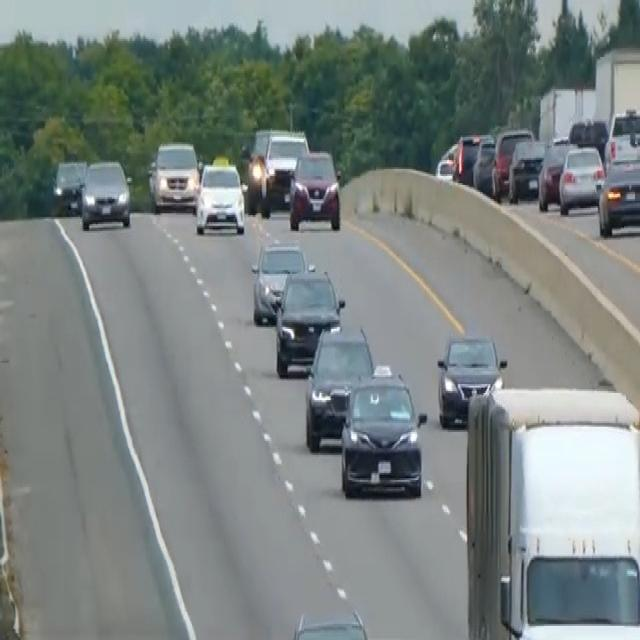bus: (463, 381, 639, 638)
car: (304, 322, 375, 452), (274, 263, 345, 377), (436, 331, 507, 428), (250, 238, 307, 326), (288, 148, 342, 231), (195, 154, 246, 234), (79, 157, 132, 231), (148, 138, 200, 212), (262, 128, 309, 208), (597, 154, 639, 236), (558, 142, 605, 214), (491, 126, 534, 198), (537, 135, 575, 210), (286, 606, 372, 638), (240, 126, 272, 212), (507, 137, 547, 203), (604, 105, 639, 171), (52, 156, 86, 214), (567, 114, 609, 160), (471, 135, 498, 196), (452, 132, 482, 183), (435, 139, 458, 181)
minivan: (338, 361, 428, 501)
